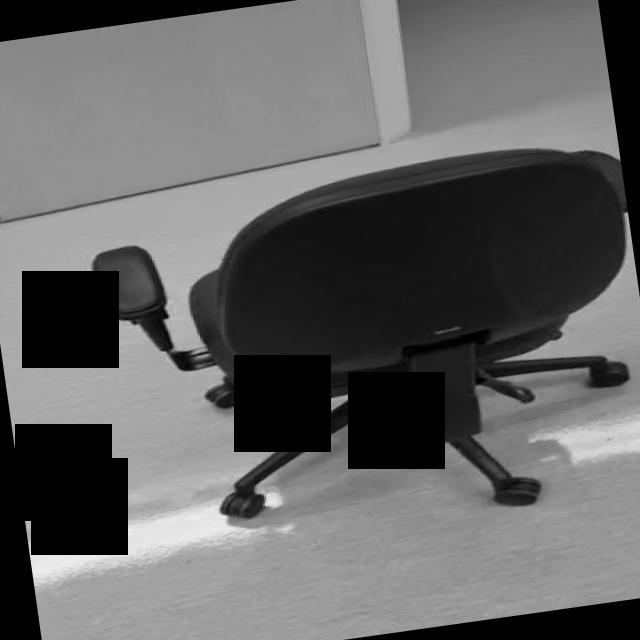chair: (82, 131, 640, 557)
